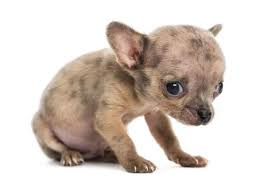chihuahua: (24, 9, 235, 181)
